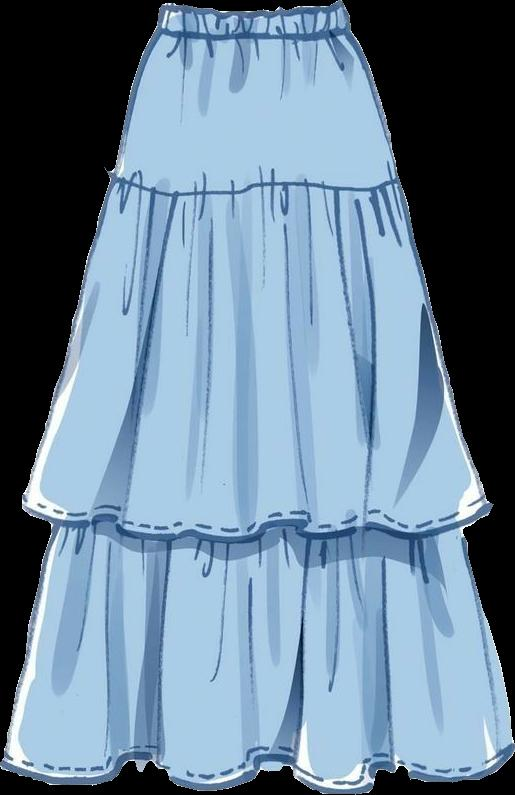Hemline: (0, 746, 514, 794), (18, 501, 490, 548)
Waistline: (109, 171, 402, 199), (157, 0, 345, 23), (151, 28, 351, 44)
